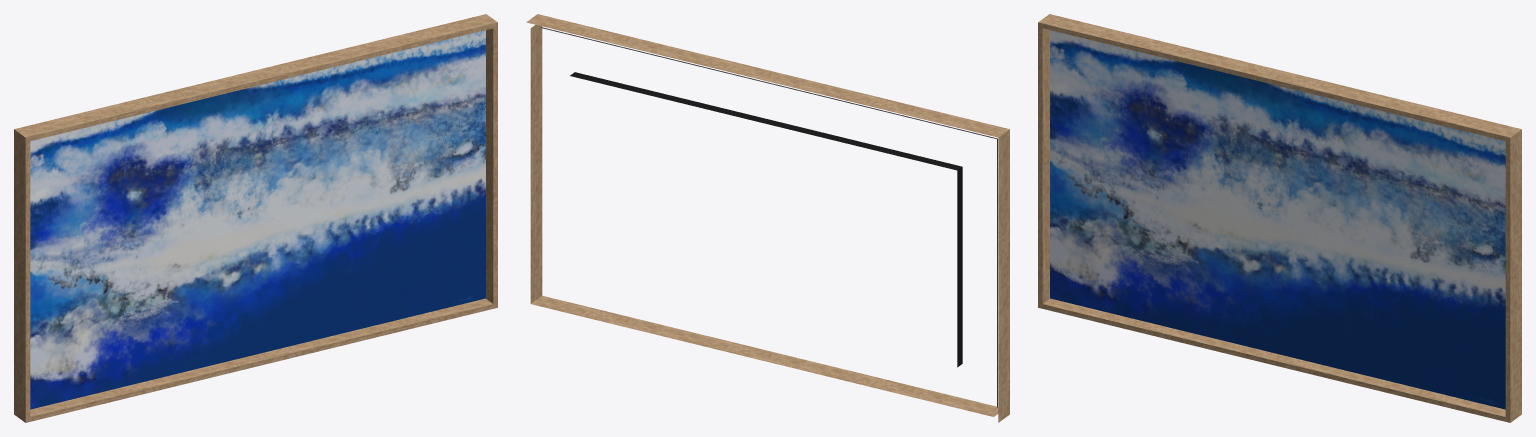
Rendered from hz069_moyen_caisse-chene.glb.
3 views of the same model, side by side, from view 1: azimuth 30°, elevation 25°; view 2: azimuth 150°, elevation 25°; view 3: azimuth 330°, elevation 25° (orthographic).
Parts seen in each view (by area): view 1: hz069_moyen_caisse-chene; view 2: hz069_moyen_caisse-chene; view 3: hz069_moyen_caisse-chene.
Boxes of the visible parts, box(x1,y1,x2,y2) form: hz069_moyen_caisse-chene: box(14, 14, 497, 422); hz069_moyen_caisse-chene: box(526, 14, 1009, 422); hz069_moyen_caisse-chene: box(1038, 14, 1521, 422).
Size of the model in its own units: 0.828 by 0.478 by 0.035.
4 materials, 2 textured.
